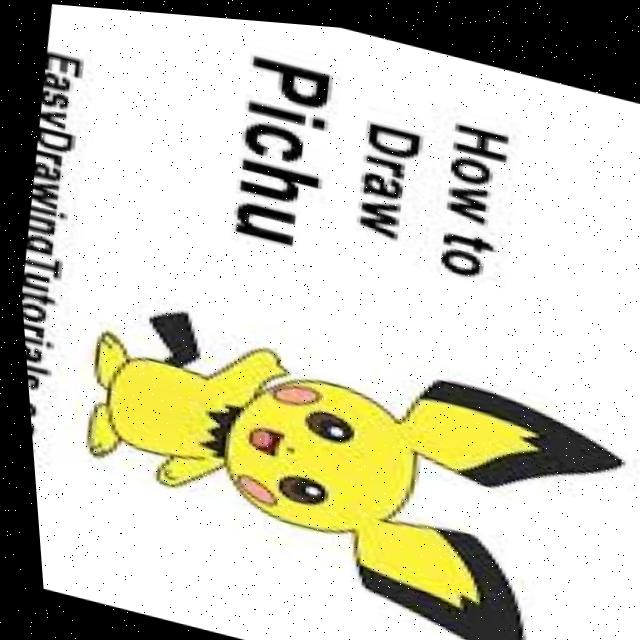pichu: (15, 265, 640, 640)
